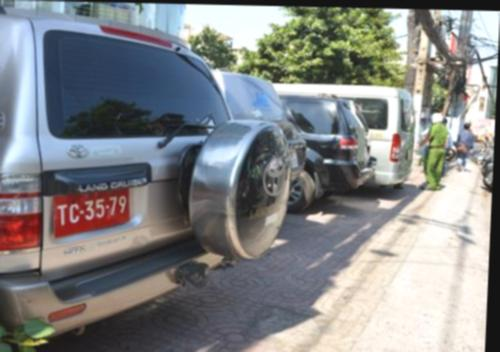License_Plate: (48, 189, 134, 240)
